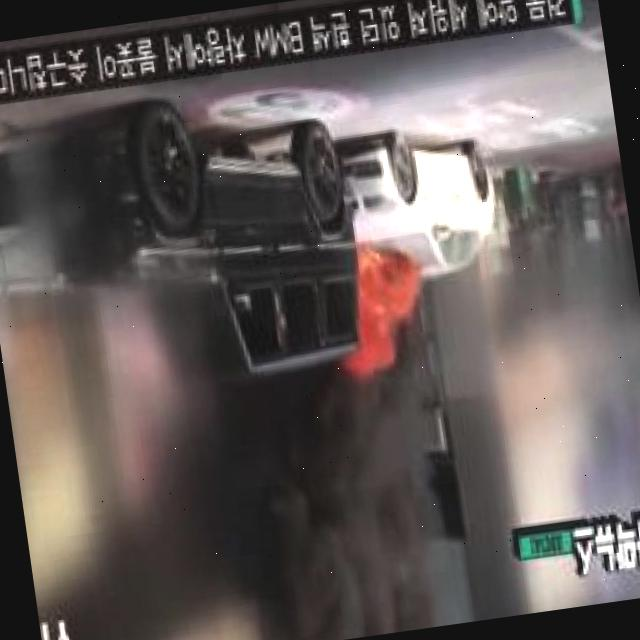fire: (324, 237, 435, 391)
